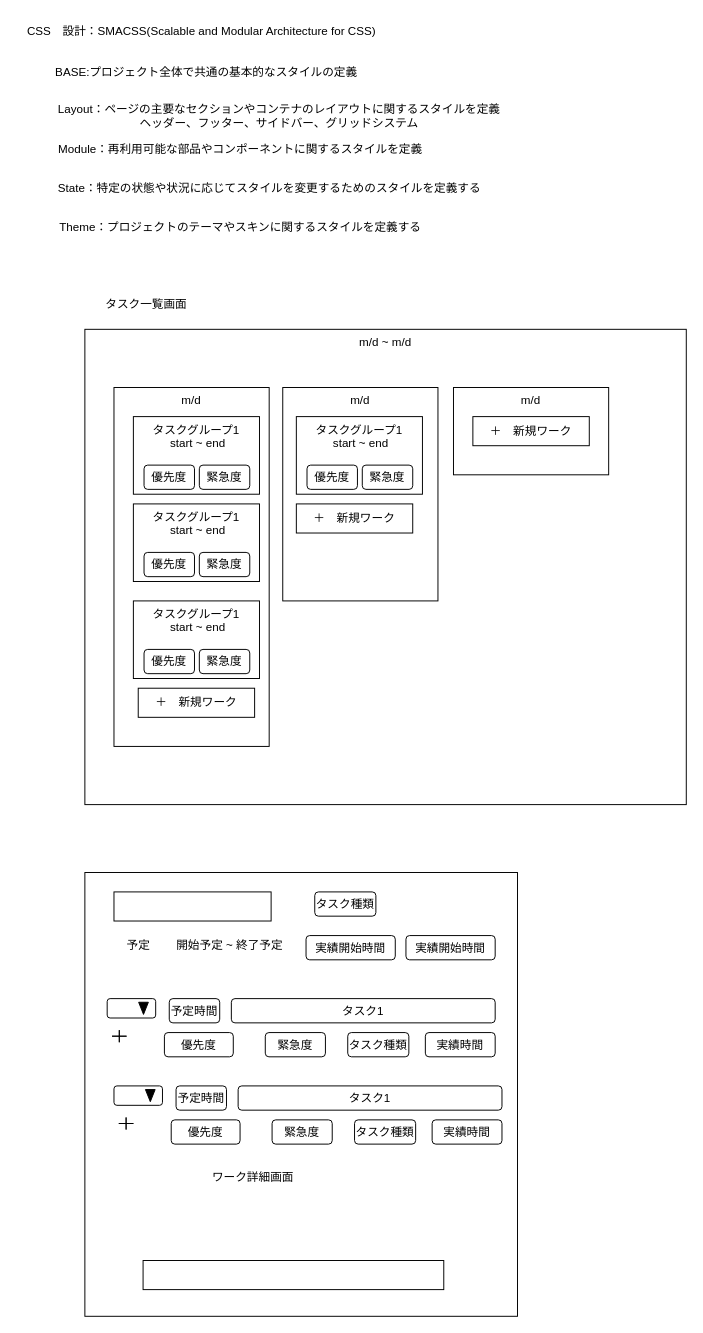
The diagram is 703 pixels wide and 1333 high, and some of its shapes have lost their labels. The shapes that lost their labels are listed below. From the top down, each one's centre as x and y in pixels, then its label:
the point at 192,906: タイトル
the point at 293,1275: ＋ 新規タスク
